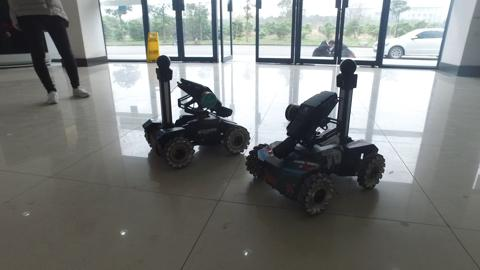chariot: (245, 55, 387, 226), (131, 50, 250, 171)
